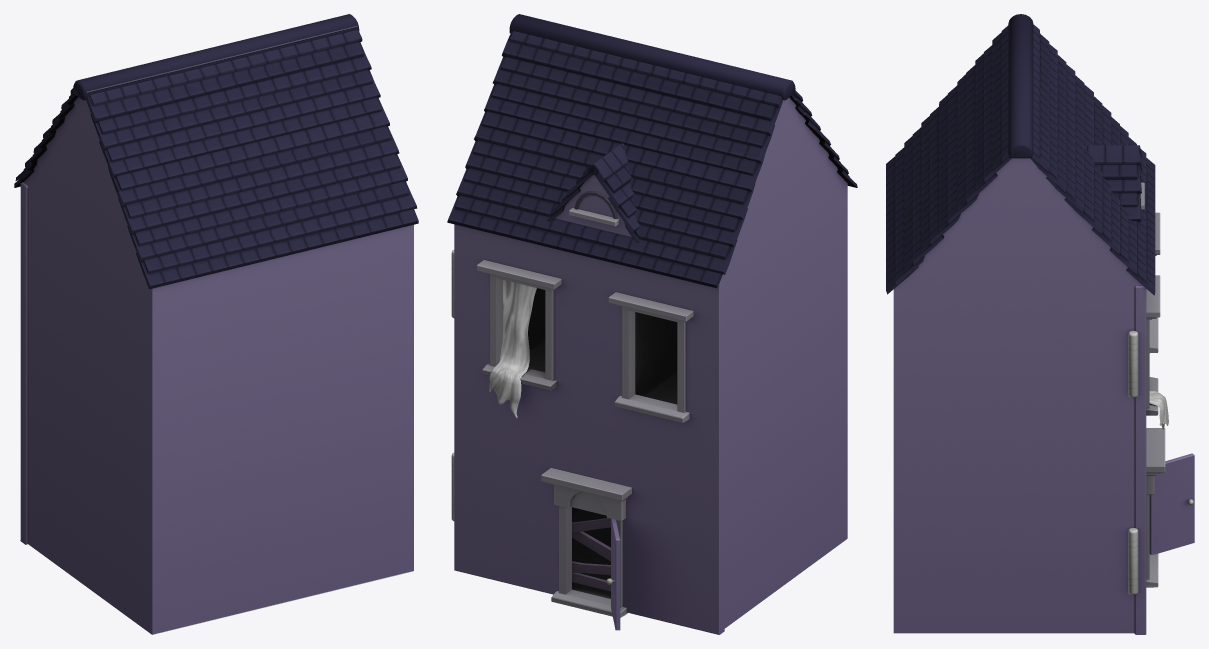
The model's file is Dollhouse.glb.
3 views of the same model, side by side, from view 1: azimuth 30°, elevation 25°; view 2: azimuth 150°, elevation 25°; view 3: azimuth 270°, elevation 25° (orthographic). The views are drawn at different scales.
Visible parts, largest first — view 1: Dollhouse.001; view 2: Dollhouse.001; view 3: Dollhouse.001.
Part boxes in pixels (x1,y1,x2,y2): Dollhouse.001: (14, 14, 418, 634); Dollhouse.001: (447, 14, 857, 634); Dollhouse.001: (886, 14, 1194, 634).
Bounding box in the file's own units: 6.09 × 10.57 × 5.98.
1 material, 1 textured.
